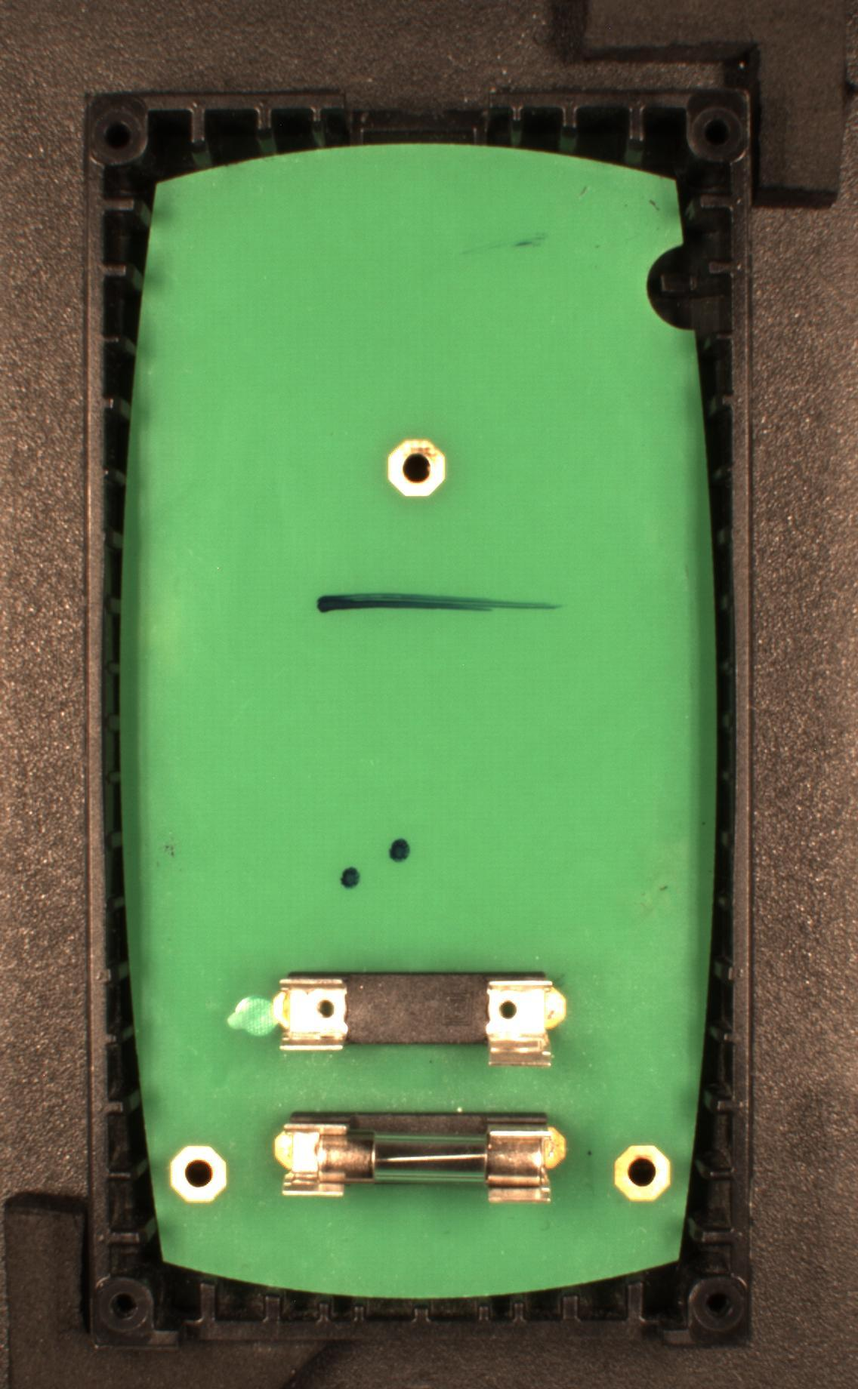Linijsko Ostecene: (315, 590, 567, 620)
Nepostojanje osiguraca: (272, 970, 568, 1068)
Tockasto Ostecenje: (388, 838, 410, 864), (340, 867, 361, 889)
